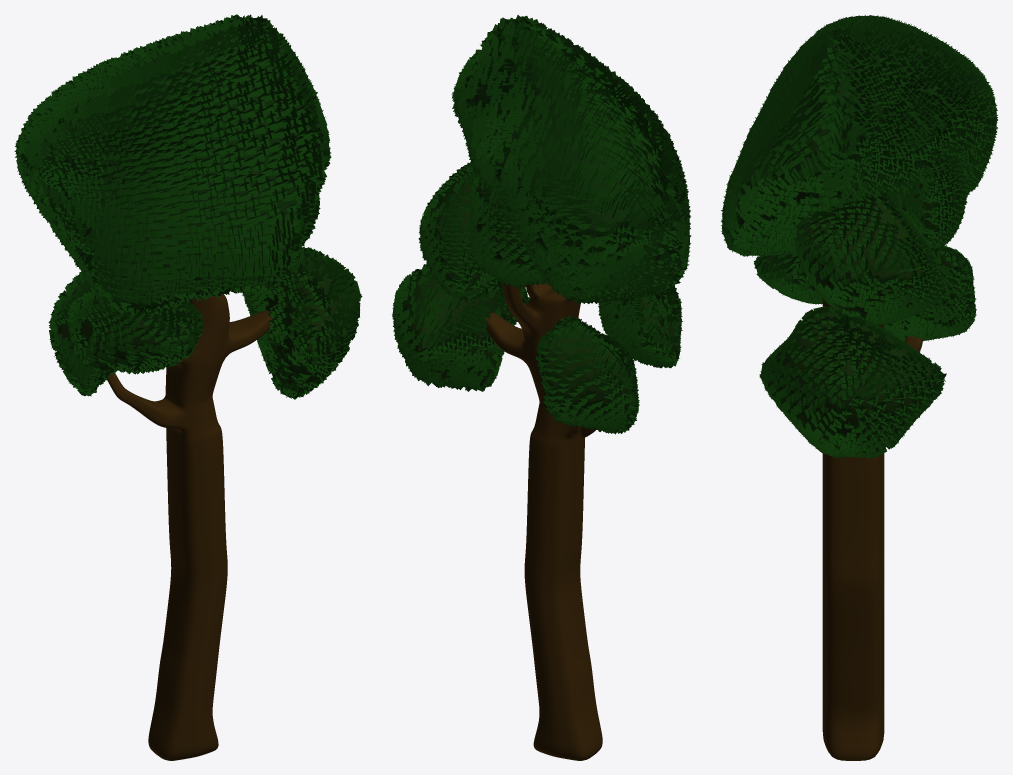
The model's file is Tree.fbx.
The picture shows the model from 3 angles, left to right: view 1: azimuth 30°, elevation 25°; view 2: azimuth 150°, elevation 25°; view 3: azimuth 270°, elevation 25°; orthographic projection. The views are drawn at different scales.
Parts seen in each view (by area): view 1: Tree; view 2: Tree; view 3: Tree.
Part boxes in pixels (bbox=[...]): Tree: bbox=[14, 14, 362, 760]; Tree: bbox=[392, 15, 691, 760]; Tree: bbox=[721, 15, 997, 760].
Bounding box in the file's own units: 1469 × 3453 × 1166.
